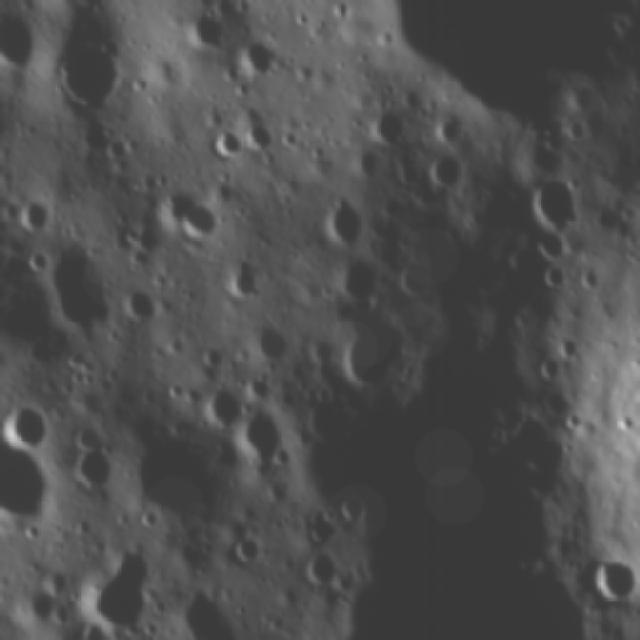crater: (372, 0, 640, 125), (71, 541, 169, 634), (42, 235, 125, 333), (48, 34, 128, 117), (514, 168, 588, 247), (338, 316, 408, 392), (164, 179, 228, 256), (0, 430, 49, 528), (179, 8, 243, 68), (232, 399, 288, 467), (63, 446, 125, 502), (584, 546, 640, 606), (0, 394, 57, 448), (236, 320, 298, 368), (0, 5, 40, 78), (190, 374, 244, 428), (334, 253, 388, 304), (356, 103, 412, 151), (325, 190, 372, 245), (12, 187, 62, 238), (228, 36, 284, 81), (301, 542, 345, 592), (222, 253, 266, 302), (424, 149, 468, 196), (227, 526, 275, 569), (304, 504, 345, 550), (122, 279, 162, 324), (430, 108, 473, 149), (239, 115, 279, 157), (202, 122, 246, 158), (528, 224, 570, 261), (299, 328, 336, 368), (69, 418, 109, 452), (555, 328, 590, 362), (534, 352, 566, 379), (27, 244, 51, 276), (51, 0, 118, 8)
